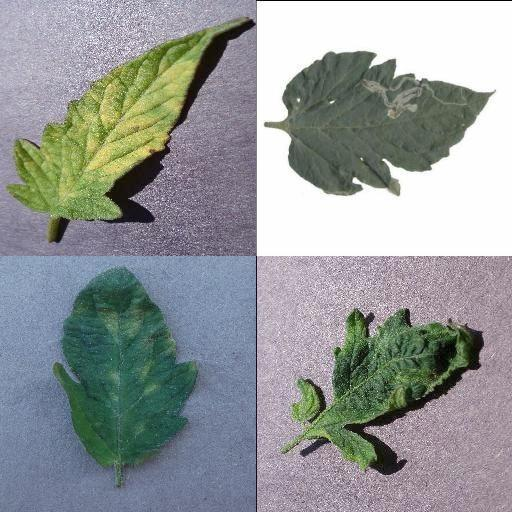Leaf Miner: (281, 50, 495, 198)
Leaf Mold: (8, 16, 248, 224), (52, 267, 202, 471)
Mosaic Virus: (290, 308, 476, 478)
